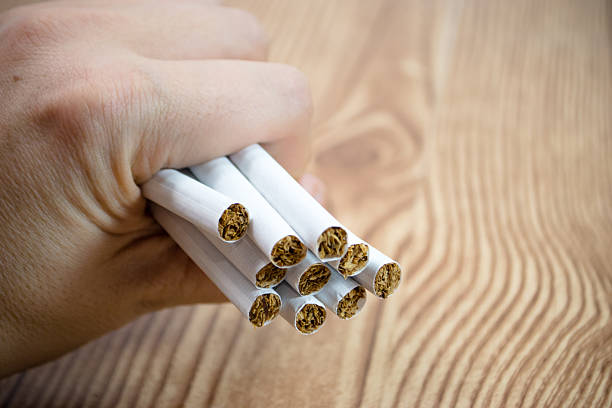cigarette: (149, 201, 283, 328), (230, 144, 350, 263), (190, 156, 309, 268), (142, 167, 249, 244), (217, 242, 292, 289), (276, 283, 328, 337), (319, 272, 368, 320), (358, 250, 404, 298), (288, 252, 333, 296), (330, 233, 371, 277)
